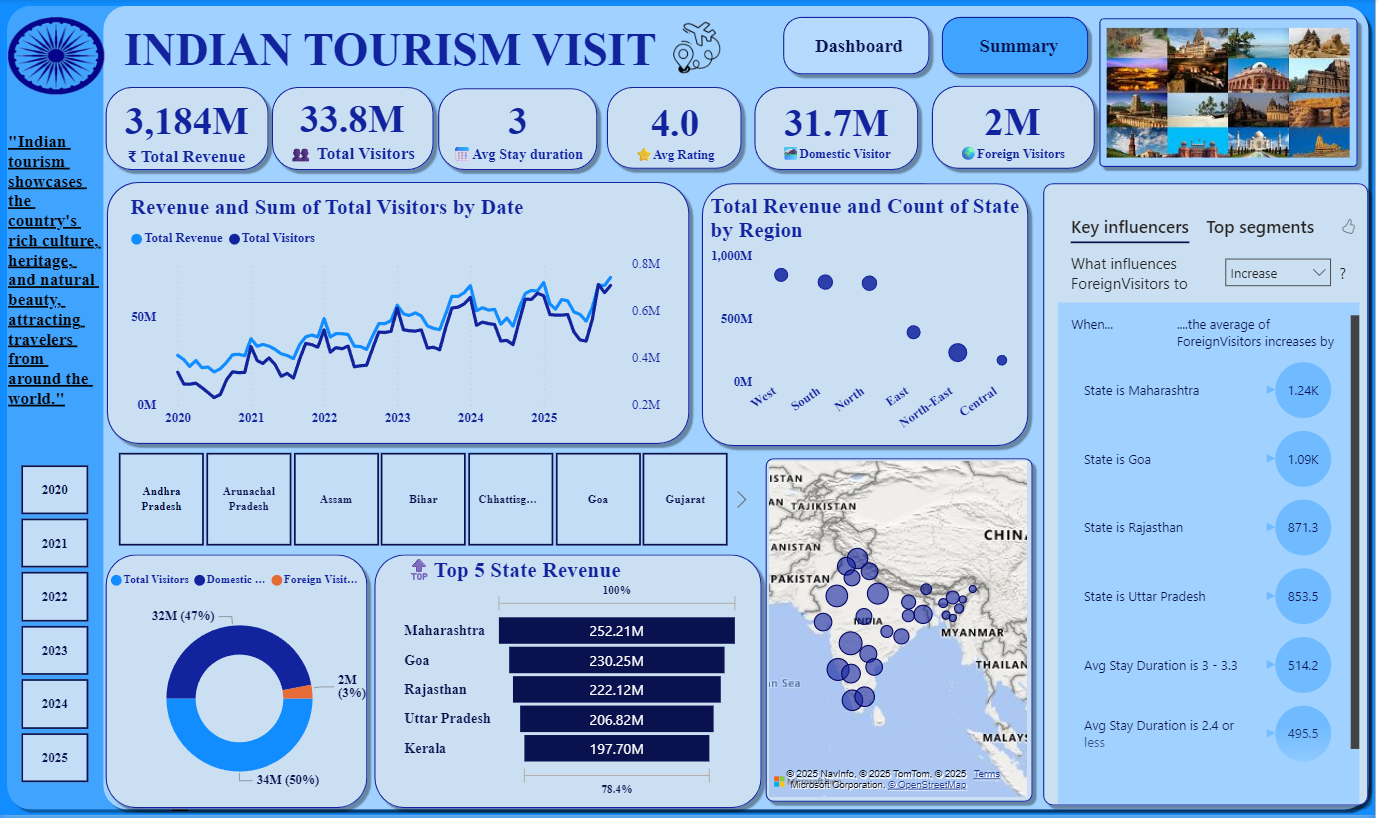

The dashboard page shown, as its layout file describes it:
{"tool":"powerbi","page":{"name":"Dashboard","canvas":[1282,761],"ordinal":0},"visuals":[{"type":"shape","box":[1.3,0,1281,761.3],"z":0},{"type":"shape","box":[91.2,0,1191.2,761.2],"z":1000},{"type":"textbox","box":[111.7,17.5,521.4,65.7],"z":2000},{"type":"shape","box":[1019,12,252.9,151],"z":3000},{"type":"image","box":[1027.4,21.6,236.2,130.7],"z":4000},{"type":"image","box":[600.2,13.1,108.4,64.6],"z":5000},{"type":"shape","box":[872.7,10.8,148.7,65.9],"z":6000},{"type":"shape","box":[724.1,10.8,148.7,65.9],"z":7000},{"type":"shape","box":[93.5,75.5,164.2,89.9],"z":8000},{"type":"shape","box":[402.8,76.7,160.6,88.7],"z":9000},{"type":"shape","box":[248.2,75.5,163,89.9],"z":10000},{"type":"card","title":"Total Revenue","fields":{"Values":["Data.Revenue"]},"box":[99.5,82.7,152.2,76.7],"z":11000},{"type":"card","fields":{"Values":["Sum(Data.TotalVisitors)"]},"box":[255.5,80.6,148.3,76.6],"z":12000},{"type":"shape","box":[559.8,75.5,137.9,88.7],"z":13000},{"type":"card","fields":{"Values":["Data.AvgStayDuration"]},"box":[412.4,80.3,142.7,79.1],"z":14000},{"type":"card","fields":{"Values":["Data.Avg Rating"]},"box":[573,83.9,113.9,73.1],"z":15000},{"type":"shape","box":[94.5,164.2,555,256.5],"z":16000},{"type":"shape","box":[966.2,165.4,315.3,592.2],"z":17000},{"type":"lineChart","title":"Revenue and Sum of Total Visitors by Date","fields":{"Y":["Data.Total Revenue"],"Y2":["Data.Total Visitors"],"Category":["Data.Date"]},"box":[117.4,182.5,504.4,222.4],"z":18000},{"type":"shape","box":[93.6,511.4,256.2,248.8],"z":19000},{"type":"shape","box":[343.7,511.2,373.2,248.8],"z":20000},{"type":"shape","box":[649.1,165.1,316.6,257.4],"z":21000},{"type":"shape","box":[708.3,421.3,261.1,332.6],"z":22000},{"type":"pageNavigator","box":[733.7,12,285.3,65.9],"z":23000},{"type":"map","fields":{"Category":["Data.State"],"Size":["Data.Revenue"]},"box":[716.9,431.1,240.2,312.9],"z":24000},{"type":"shape","box":[697.2,75.1,165.1,89.9],"z":25000},{"type":"card","fields":{"Values":["Data.Total Domestic Visitors"]},"box":[716.9,77.9,125.9,83.9],"z":26000},{"type":"shape","box":[863.1,74.3,164.2,89.9],"z":27000},{"type":"card","fields":{"Values":["Data.Total Foreign Visitors"]},"box":[885.6,80.1,118.2,78.8],"z":28000},{"type":"donutChart","fields":{"Y":["Data.Total Visitors","Data.Total Domestic Visitors","Data.Total Foreign Visitors"]},"box":[99.5,522.7,250.6,230.2],"z":29000},{"type":"funnel","title":"🔝Top 5 State Revenue","fields":{"Category":["Data.State"],"Y":["Data.Total Revenue"]},"box":[372.4,517,323.1,231.1],"z":30000},{"type":"image","box":[0,8.8,106.2,87.6],"z":31000},{"type":"slicer","fields":{"Values":["Calendar.Year"]},"box":[0,431.6,101.9,299.7],"z":32000},{"type":"scatterChart","fields":{"Y":["Data.Total Revenue"],"X":["Data.Region"],"Size":["Count(Data.State)"]},"box":[658.1,182.2,298.5,237.4],"z":33000},{"type":"keyDriversVisual","fields":{"ExplainBy":["Data.State","Data.Month","Data.AvgRating","Data.Avg_Stay_Duration_Days"],"Target":["Data.ForeignVisitors"]},"box":[981.4,187.3,290.3,567.4],"z":34000},{"type":"slicer","fields":{"Values":["Data.State"]},"box":[91.1,420,607.3,91.1],"z":35000},{"type":"textbox","box":[3.6,118.7,95.9,321.3],"z":36000}]}

Visuals, with their boxes in screenshot pixels (x1, y1, x2, y2), scaled from the page's 1282x761 canvas onto the 1378x818 screenshot:
shape: region(1, 0, 1377, 817)
shape: region(98, 0, 1377, 817)
textbox: region(120, 19, 681, 89)
shape: region(1095, 13, 1367, 175)
image: region(1104, 23, 1358, 164)
image: region(645, 14, 762, 84)
shape: region(938, 12, 1098, 82)
shape: region(778, 12, 938, 82)
shape: region(101, 81, 277, 178)
shape: region(433, 82, 606, 178)
shape: region(267, 81, 442, 178)
"Total Revenue" card: region(107, 89, 271, 171)
card - Sum(Data.TotalVisitors): region(275, 87, 434, 169)
shape: region(602, 81, 750, 176)
card - Data.AvgStayDuration: region(443, 86, 597, 171)
card - Data.Avg Rating: region(616, 90, 738, 169)
shape: region(102, 176, 698, 452)
shape: region(1039, 178, 1377, 814)
"Revenue and Sum of Total Visitors by Date" lineChart: region(126, 196, 668, 435)
shape: region(101, 550, 376, 817)
shape: region(369, 549, 771, 817)
shape: region(698, 177, 1038, 454)
shape: region(761, 453, 1042, 810)
pageNavigator: region(789, 13, 1095, 84)
map - Data.State x Data.Revenue: region(771, 463, 1029, 800)
shape: region(749, 81, 927, 177)
card - Data.Total Domestic Visitors: region(771, 84, 906, 174)
shape: region(928, 80, 1104, 176)
card - Data.Total Foreign Visitors: region(952, 86, 1079, 171)
donutChart - Data.Total Visitors x Data.Total Domestic Visitors: region(107, 562, 376, 809)
"🔝Top 5 State Revenue" funnel: region(400, 556, 748, 804)
image: region(0, 9, 114, 104)
slicer - Calendar.Year: region(0, 464, 110, 786)
scatterChart - Data.Total Revenue x Data.Region: region(707, 196, 1028, 451)
keyDriversVisual - Data.State x Data.Month: region(1055, 201, 1367, 811)
slicer - Data.State: region(98, 451, 751, 549)
textbox: region(4, 128, 107, 473)
